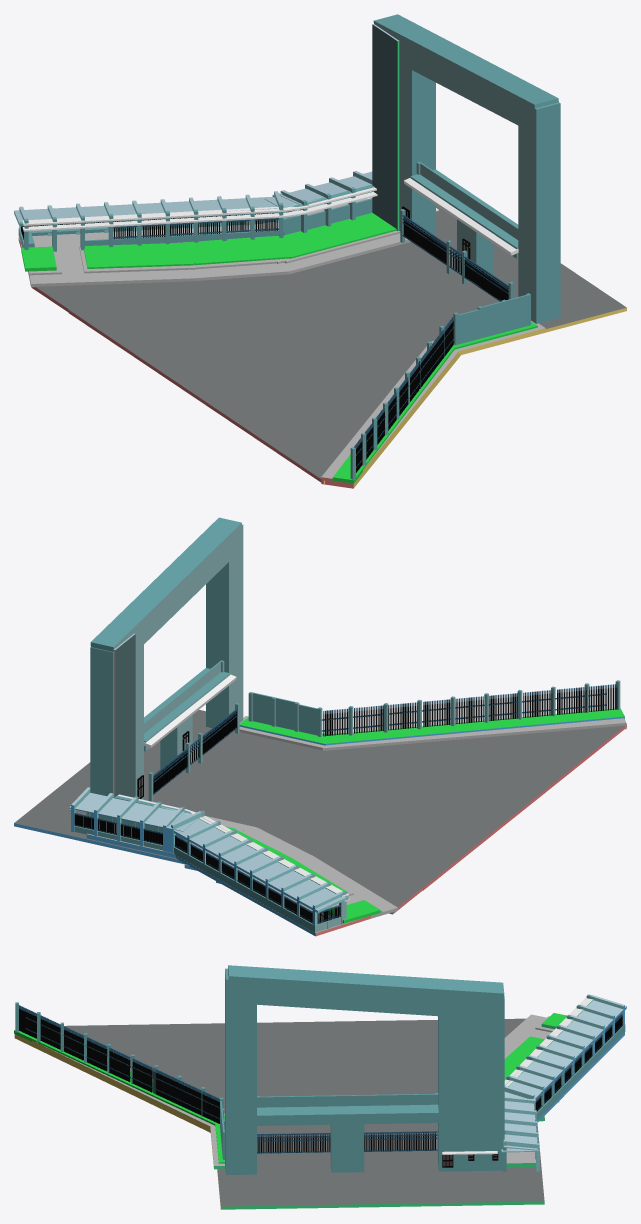
Rendered from Gate 1.glb.
3 renders of one model, top to bottom at view 1: azimuth 30°, elevation 25°; view 2: azimuth 150°, elevation 25°; view 3: azimuth 270°, elevation 25°, orthographic. The views are drawn at different scales.
Visible parts, largest first — view 1: cube.213; view 2: cube.213; view 3: cube.213.
Part boxes in pixels (x1,y1,x2,y2): cube.213: [14, 14, 626, 488]; cube.213: [14, 517, 626, 936]; cube.213: [14, 965, 626, 1209].
Size of the model in its own units: 16.17 by 8.18 by 22.11.
Materials: 13 (13 with a texture image).
